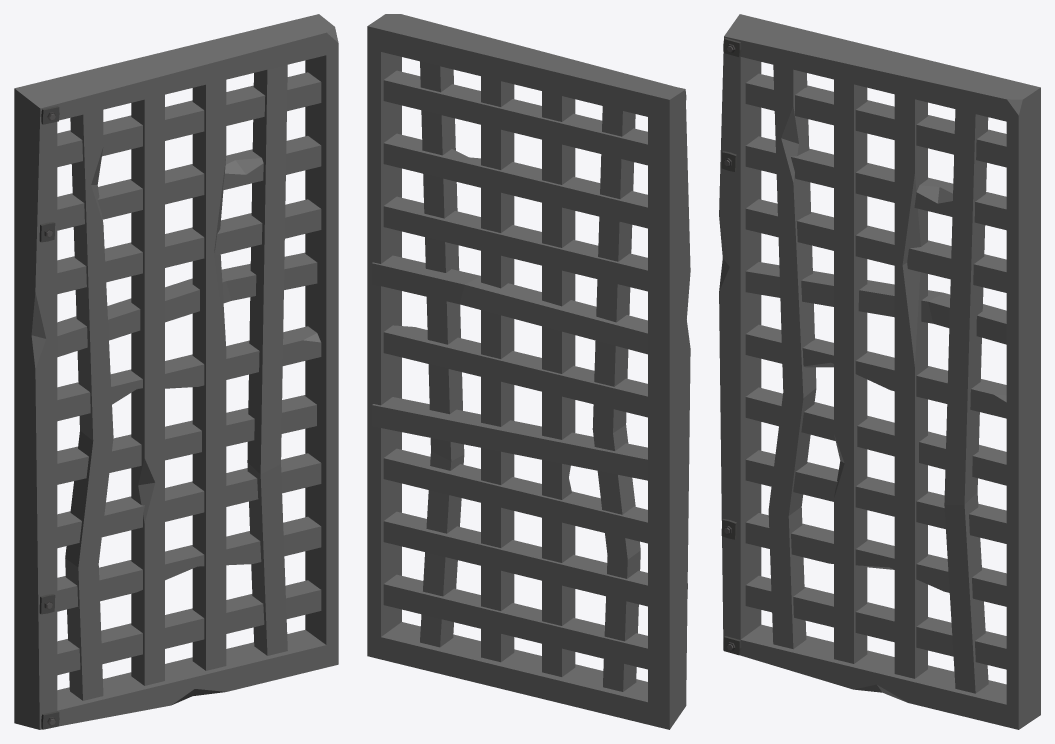
The model's file is SM_Prop_Trap_Pit_01_Door_R.fbx.
3 views of the same model, side by side, from view 1: azimuth 30°, elevation 25°; view 2: azimuth 150°, elevation 25°; view 3: azimuth 330°, elevation 25° (orthographic).
Visible parts, largest first — view 1: SM_Prop_Trap_Pit_Door_R; view 2: SM_Prop_Trap_Pit_Door_R; view 3: SM_Prop_Trap_Pit_Door_R.
Part boxes in pixels (x1,y1,x2,y2): SM_Prop_Trap_Pit_Door_R: (14,14,338,729); SM_Prop_Trap_Pit_Door_R: (367,14,690,729); SM_Prop_Trap_Pit_Door_R: (719,14,1040,729).
Size of the model in its own units: 0.024 by 0.0477 by 0.00367.
